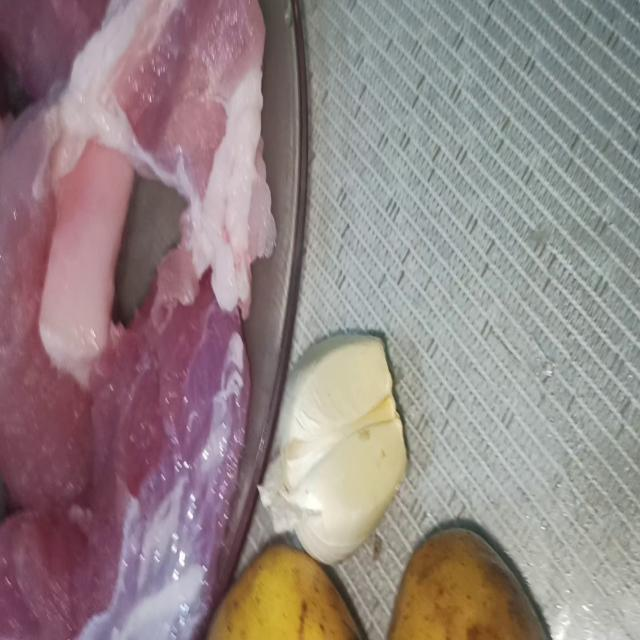garlic: (264, 292, 424, 567)
pork: (0, 175, 238, 640), (52, 0, 285, 344), (0, 0, 126, 160)
potato: (376, 475, 568, 640)
